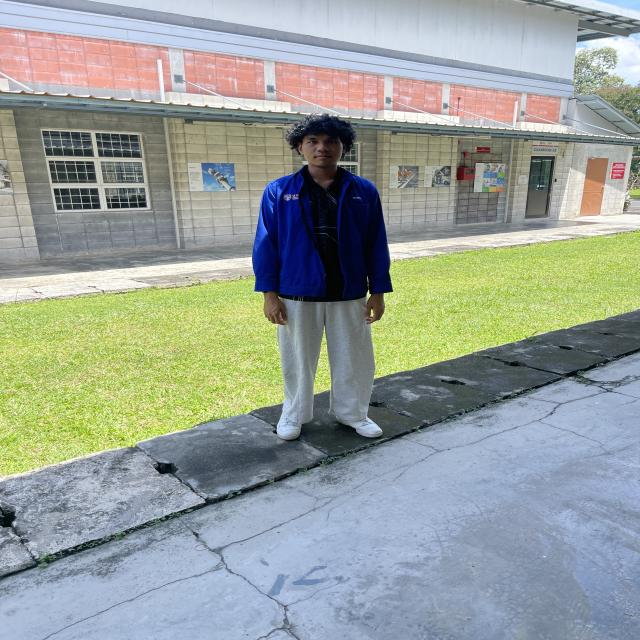person_with_labcoat: (252, 114, 392, 440)
